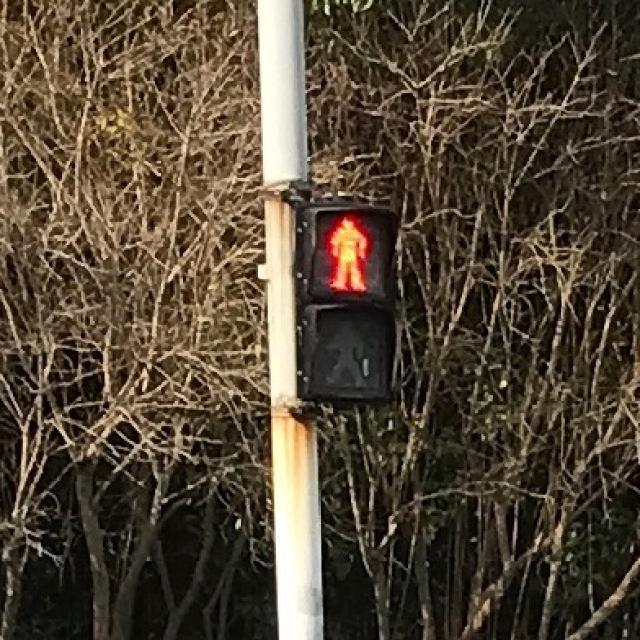red-crossing: (323, 210, 369, 292)
